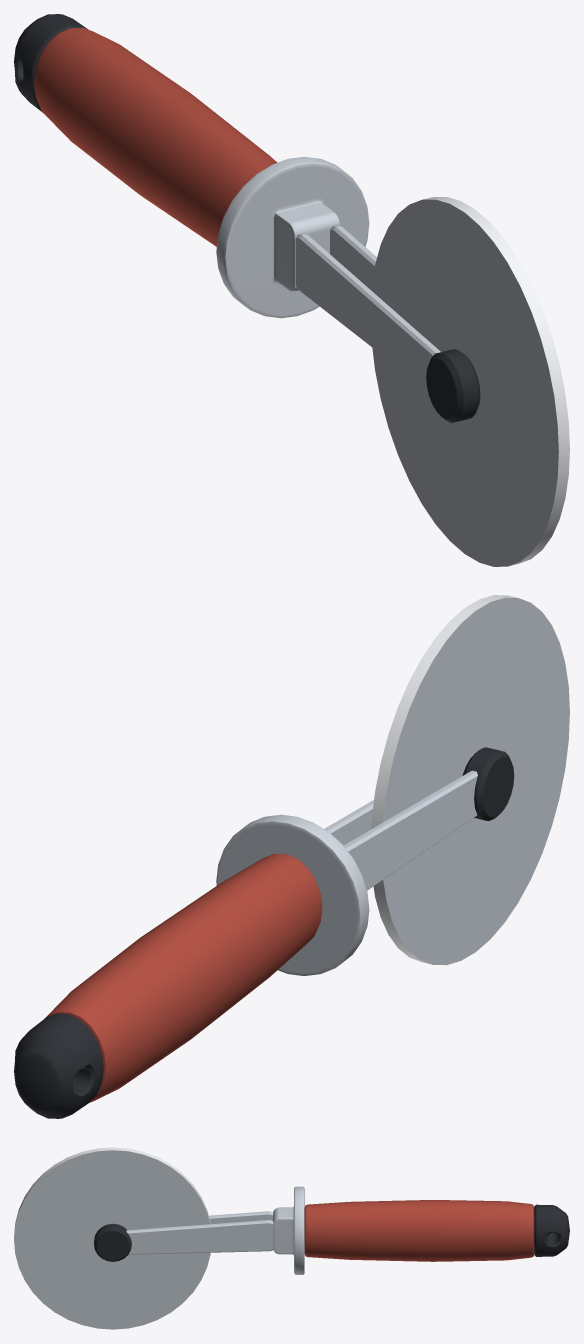
The model's file is w_knife@knife_pizza.glb.
3 renders of one model, top to bottom at view 1: azimuth 30°, elevation 25°; view 2: azimuth 150°, elevation 25°; view 3: azimuth 270°, elevation 25°, orthographic. The views are drawn at different scales.
Parts seen in each view (by area): view 1: wheel_wzB__steel__pcbd2db, grip_wzA__red__pb04c3e, guard_wzB__steel__pcbd2db, fork_wzB__steel__pcbd2db, wheel_wzB__edge__pf0f3f6, hub_wzN__dark__p2c2f35, cap_wzN__dark__p2c2f35; view 2: wheel_wzB__steel__pcbd2db, grip_wzA__red__pb04c3e, guard_wzB__steel__pcbd2db, fork_wzB__steel__pcbd2db, cap_wzN__dark__p2c2f35, wheel_wzB__edge__pf0f3f6, hub_wzN__dark__p2c2f35; view 3: wheel_wzB__steel__pcbd2db, grip_wzA__red__pb04c3e, fork_wzB__steel__pcbd2db, guard_wzB__steel__pcbd2db, cap_wzN__dark__p2c2f35, hub_wzN__dark__p2c2f35, wheel_wzB__edge__pf0f3f6.
Boxes of the visible parts, left/top/right/bottom form: wheel_wzB__steel__pcbd2db: left=371, top=199, right=558, bottom=566; grip_wzA__red__pb04c3e: left=34, top=27, right=277, bottom=246; guard_wzB__steel__pcbd2db: left=216, top=156, right=369, bottom=318; fork_wzB__steel__pcbd2db: left=295, top=225, right=440, bottom=390; wheel_wzB__edge__pf0f3f6: left=423, top=197, right=569, bottom=566; hub_wzN__dark__p2c2f35: left=426, top=349, right=480, bottom=422; cap_wzN__dark__p2c2f35: left=14, top=14, right=87, bottom=112; wheel_wzB__steel__pcbd2db: left=383, top=597, right=569, bottom=965; grip_wzA__red__pb04c3e: left=44, top=853, right=322, bottom=1102; guard_wzB__steel__pcbd2db: left=216, top=814, right=369, bottom=975; fork_wzB__steel__pcbd2db: left=324, top=770, right=477, bottom=890; cap_wzN__dark__p2c2f35: left=14, top=1013, right=103, bottom=1118; wheel_wzB__edge__pf0f3f6: left=371, top=595, right=517, bottom=964; hub_wzN__dark__p2c2f35: left=462, top=747, right=514, bottom=820; wheel_wzB__steel__pcbd2db: left=14, top=1150, right=210, bottom=1329; grip_wzA__red__pb04c3e: left=304, top=1200, right=534, bottom=1261; fork_wzB__steel__pcbd2db: left=126, top=1211, right=273, bottom=1254; guard_wzB__steel__pcbd2db: left=273, top=1186, right=304, bottom=1274; cap_wzN__dark__p2c2f35: left=534, top=1204, right=569, bottom=1256; hub_wzN__dark__p2c2f35: left=94, top=1223, right=131, bottom=1261; wheel_wzB__edge__pf0f3f6: left=14, top=1147, right=210, bottom=1237.
Size of the model in its own units: 0.042 by 0.094 by 0.264.
